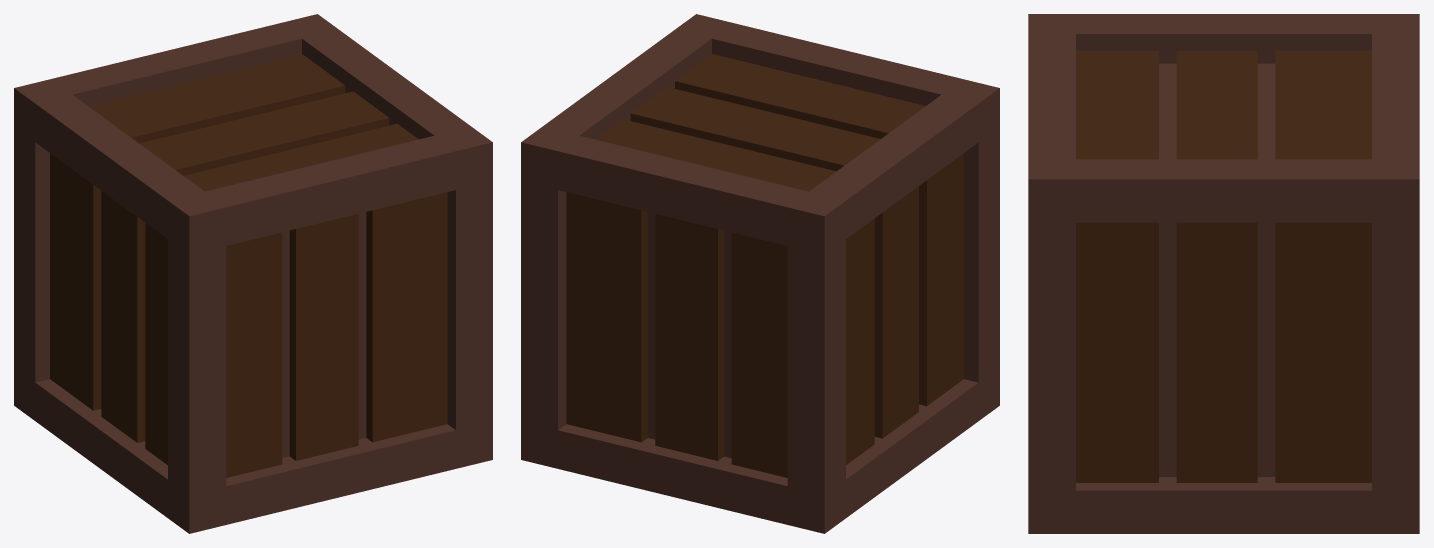
Rendered from crate.fbx.
3 views of the same model, side by side, from view 1: azimuth 30°, elevation 25°; view 2: azimuth 150°, elevation 25°; view 3: azimuth 270°, elevation 25° (orthographic). The views are drawn at different scales.
Visible parts, largest first — view 1: Cube, Cube.001, Cube.002, Cube.003; view 2: Cube, Cube.001, Cube.002, Cube.003; view 3: Cube, Cube.002, Cube.003.
Boxes of the visible parts, x1,y1,x2,y2 form: Cube: (14,14,492,533); Cube.001: (226,192,447,477); Cube.002: (50,153,167,464); Cube.003: (88,54,418,191); Cube: (521,14,999,533); Cube.001: (566,192,787,477); Cube.002: (846,153,963,464); Cube.003: (595,54,925,191); Cube: (1028,14,1419,533); Cube.002: (1076,222,1371,482); Cube.003: (1076,51,1371,159).
Bounding box in the file's own units: 64.31 × 64.31 × 64.31.
